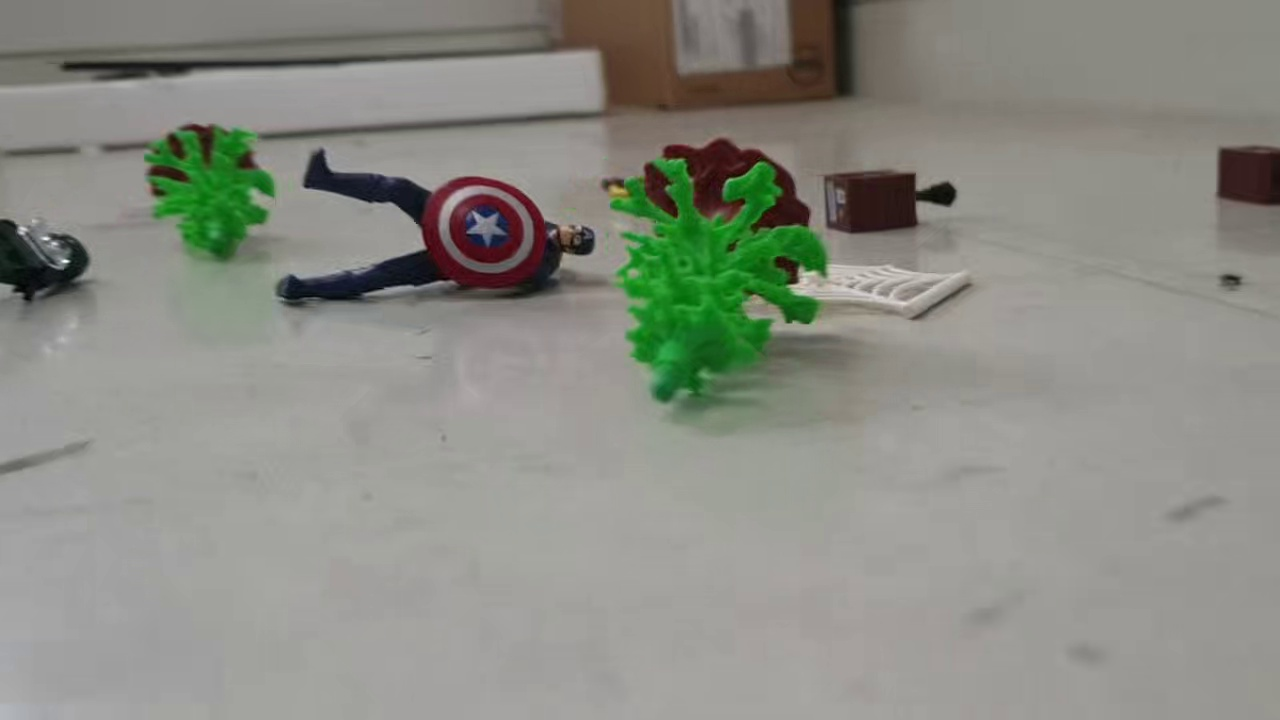box: (820, 165, 960, 236), (1213, 143, 1280, 209)
people: (274, 141, 598, 306), (1, 210, 89, 301)
tree: (603, 134, 832, 406), (144, 119, 280, 269)
web: (720, 261, 972, 321)
